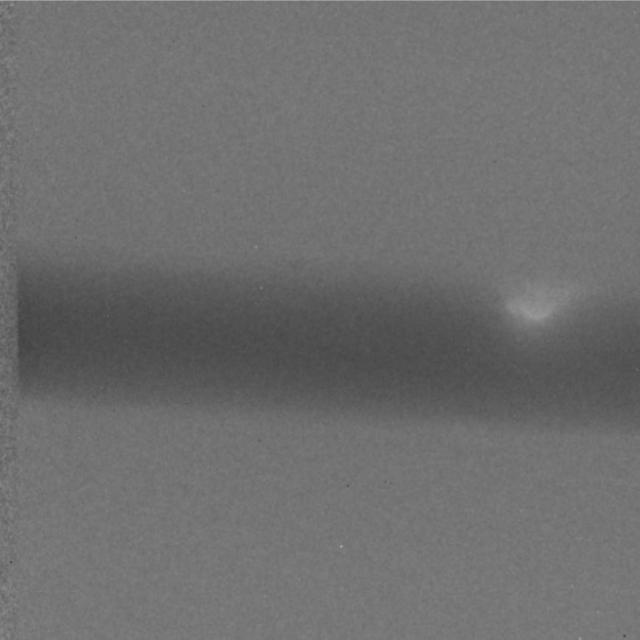bite edge: (496, 278, 574, 334)
